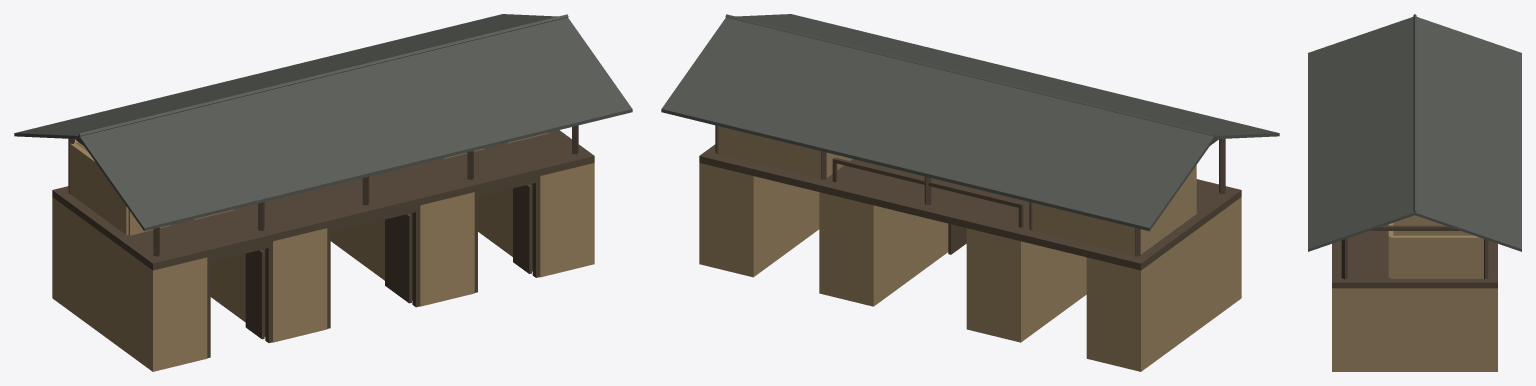
File: yong-Y-LOD2.glb
3 renders of one model, left to right at view 1: azimuth 30°, elevation 25°; view 2: azimuth 150°, elevation 25°; view 3: azimuth 270°, elevation 25°, orthographic. The views are drawn at different scales.
Visible parts, largest first — view 1: yong-Y-static_tile, yong-Y-static_earth, yong-Y-static_timber; view 2: yong-Y-static_tile, yong-Y-static_earth, yong-Y-static_timber; view 3: yong-Y-static_tile, yong-Y-static_earth, yong-Y-static_timber.
Boxes of the visible parts, x1,y1,x2,y2 form: yong-Y-static_tile: [14, 14, 632, 231]; yong-Y-static_earth: [52, 132, 594, 371]; yong-Y-static_timber: [52, 125, 594, 358]; yong-Y-static_tile: [661, 14, 1279, 231]; yong-Y-static_earth: [699, 126, 1241, 371]; yong-Y-static_timber: [699, 125, 1241, 270]; yong-Y-static_tile: [1308, 14, 1521, 251]; yong-Y-static_earth: [1332, 215, 1497, 371]; yong-Y-static_timber: [1332, 224, 1497, 288].
Bounding box in the file's own units: 25.2 × 10.23 × 11.6.
